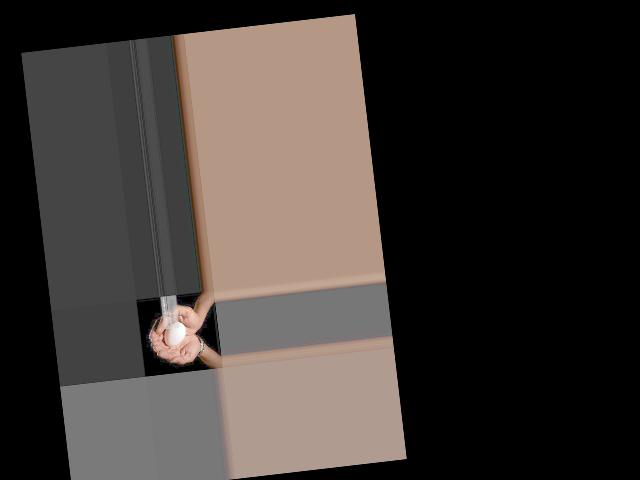egg: (161, 322, 186, 347)
